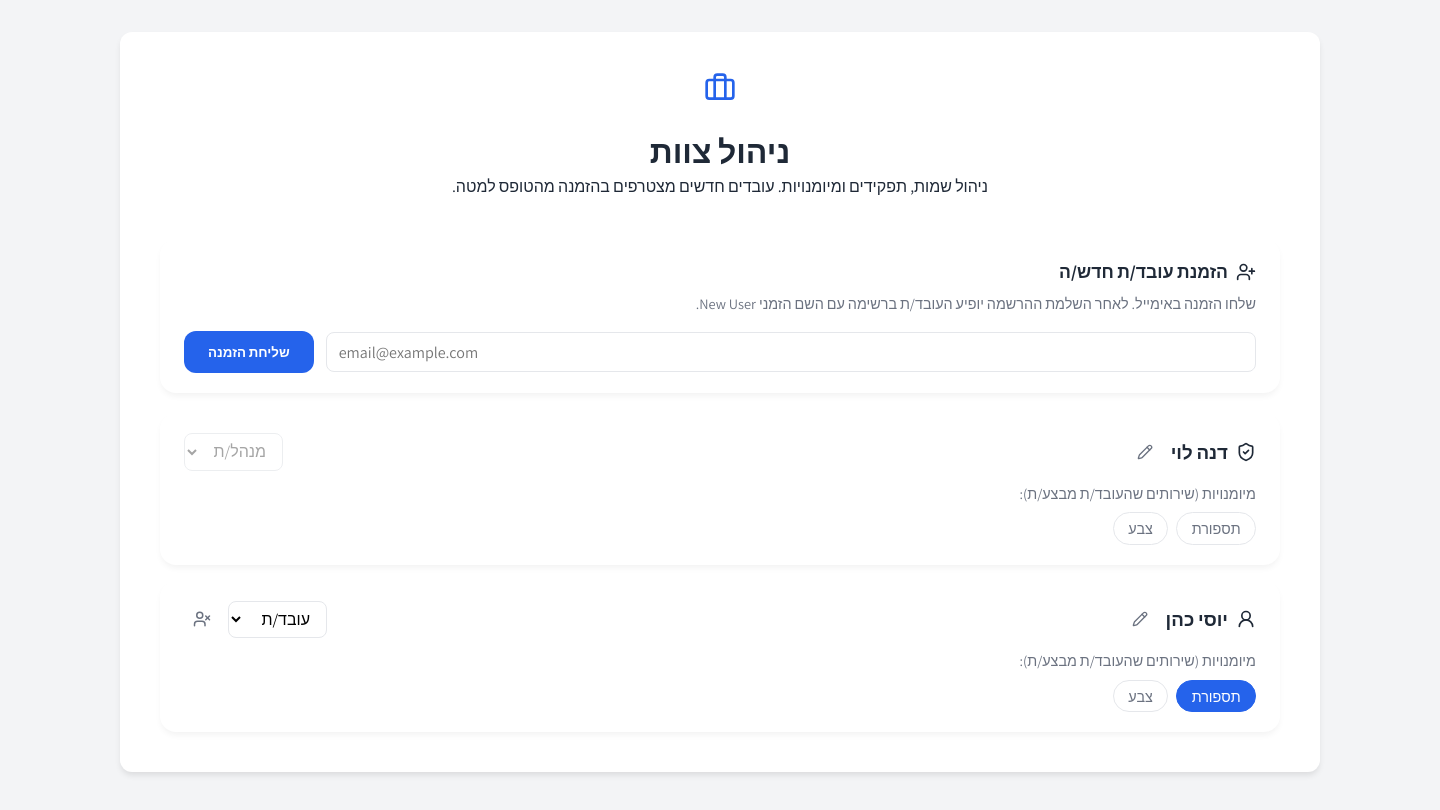
Test: TeamPage › lets an admin edit another employee name
Check: the heading "יוסי כהן" is shown, box [1166, 605, 1228, 634]
Click the button named "ערוך שם של יוסי" at (1140, 620), box [1122, 602, 1158, 638]
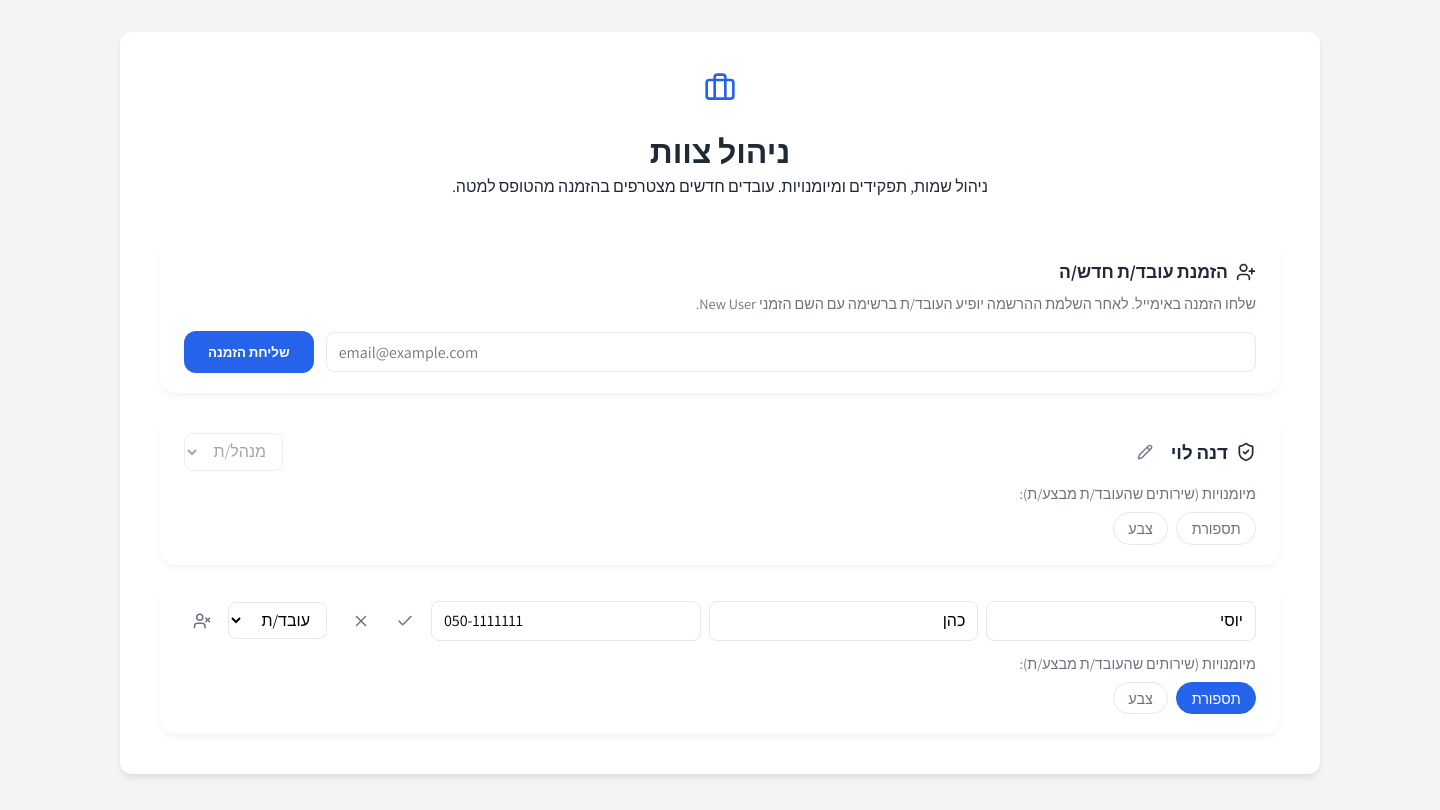
Replace the text in the field named "שם פרטי של יוסי" with "יוסף" at (1121, 621), box [986, 601, 1256, 641]
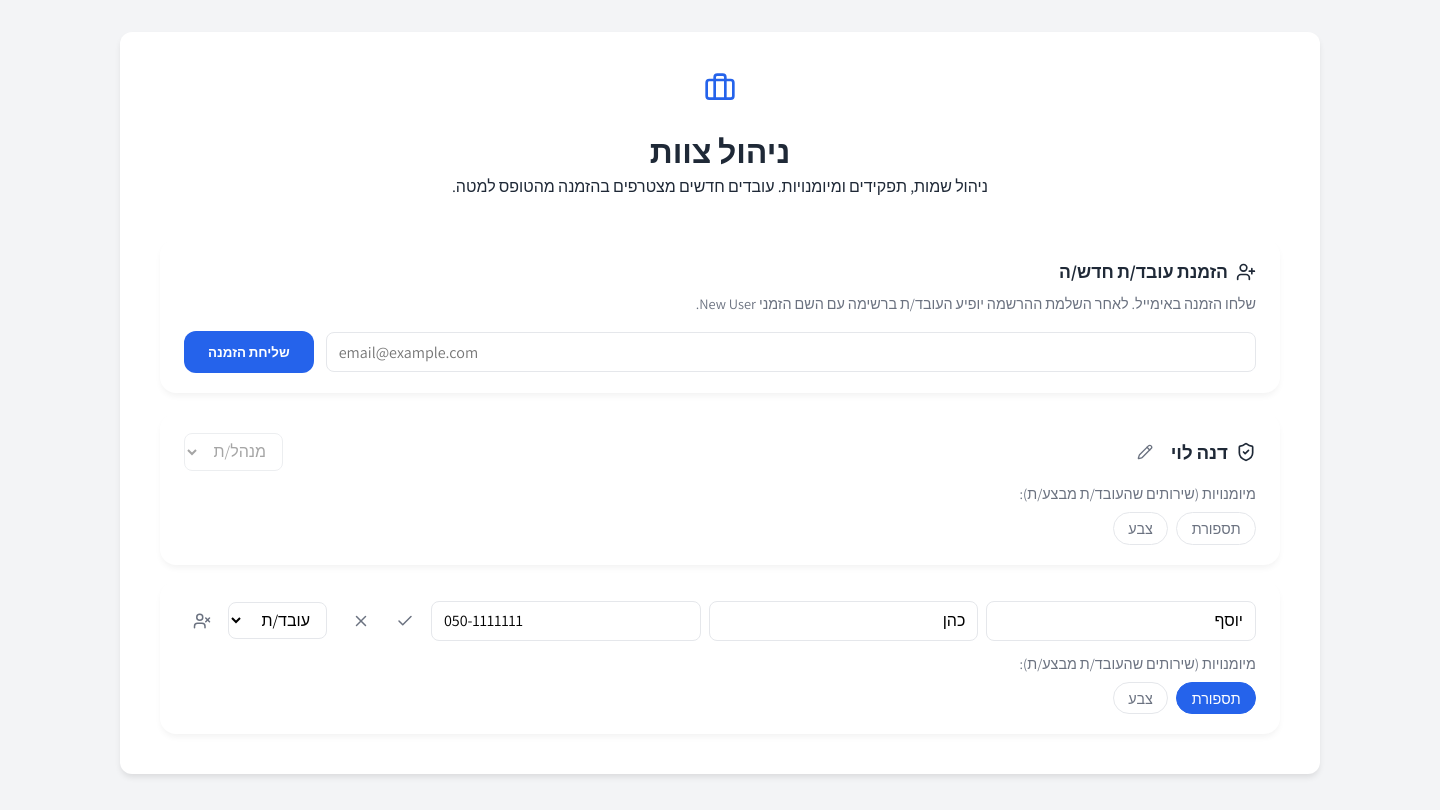
Click the button named "שמור שם" at (405, 621), box [387, 603, 423, 639]
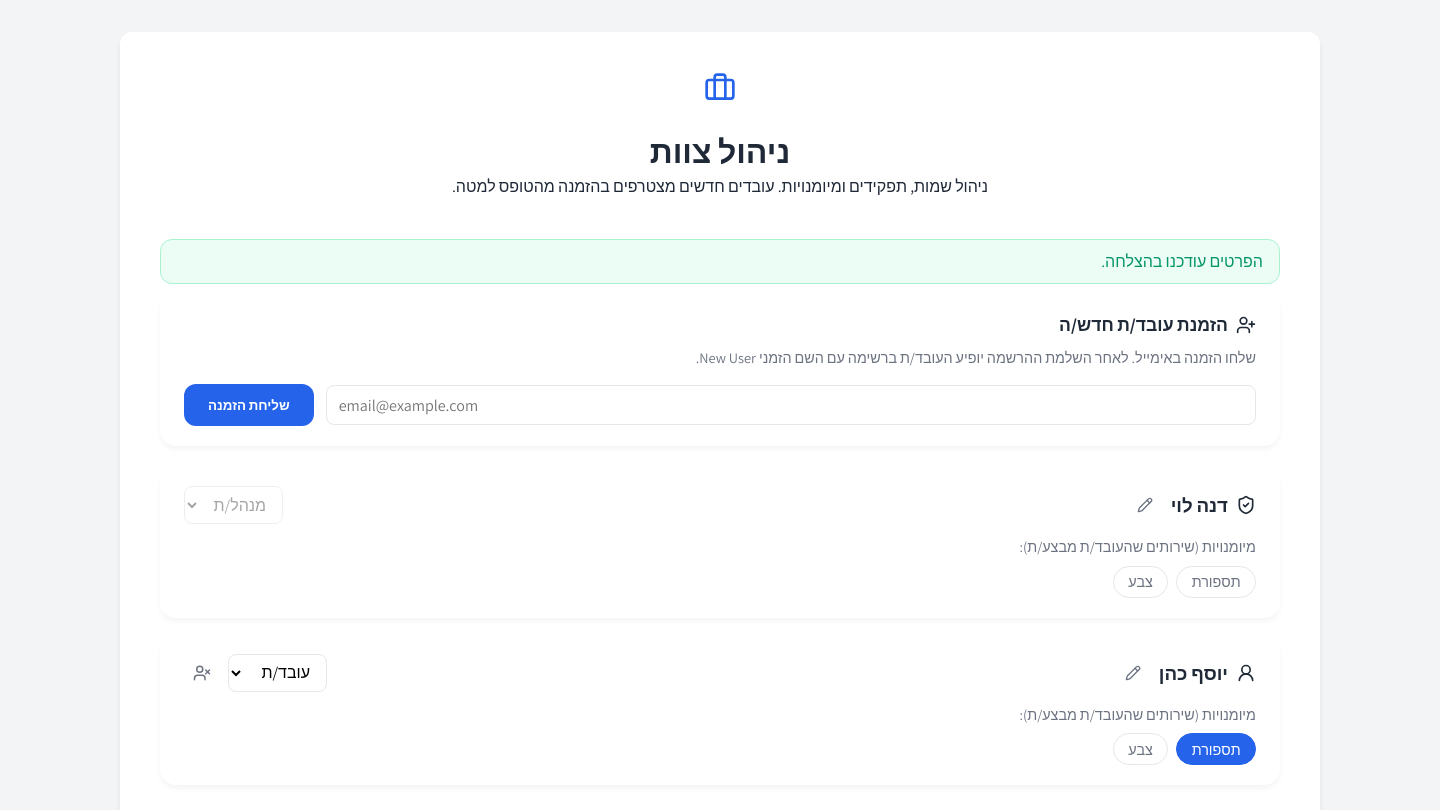
Check: the text "הפרטים עודכנו בהצלחה." is shown, box [160, 239, 1280, 284]
Check: the heading "יוסף כהן" is shown, box [1159, 659, 1228, 687]
